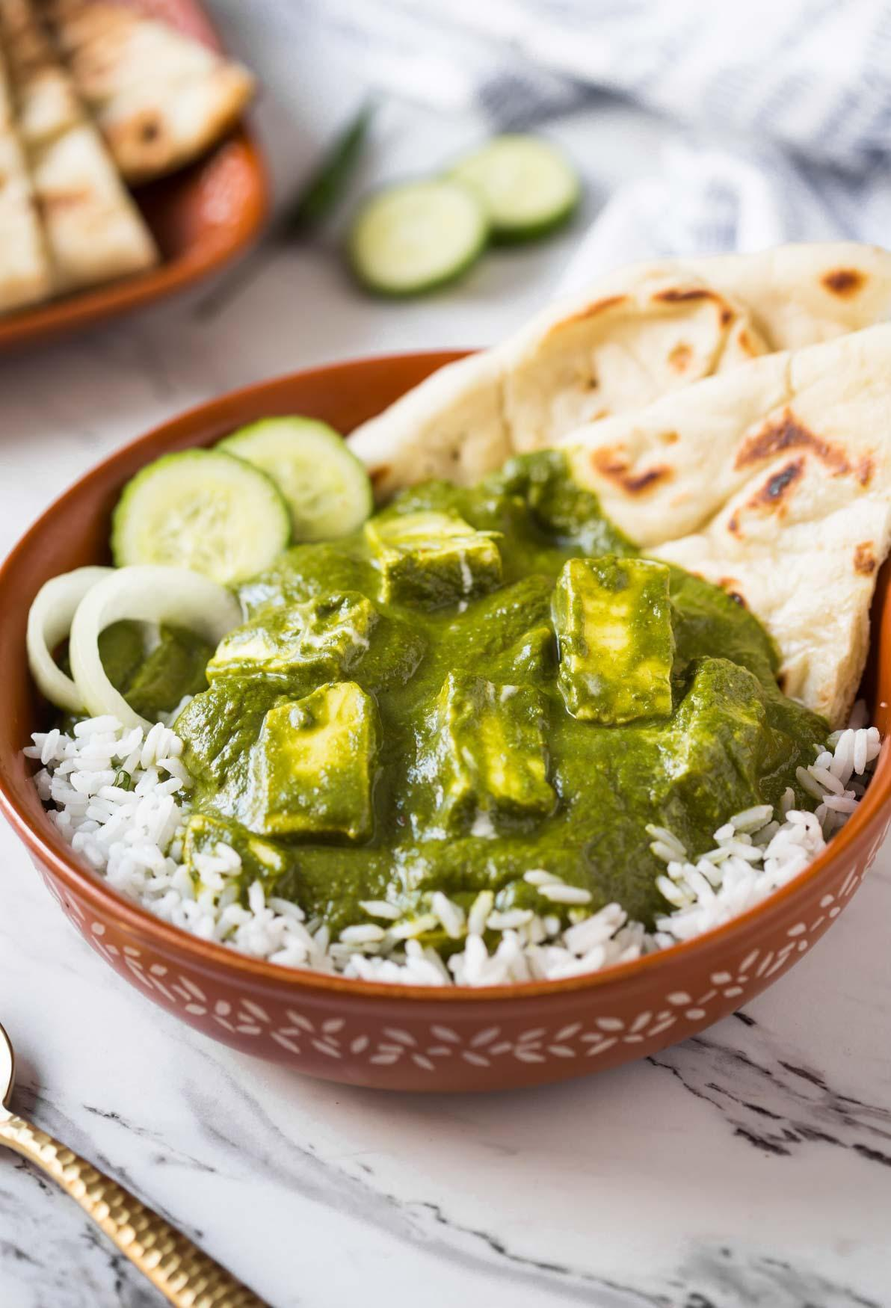paneer: (323, 588, 579, 804)
rice: (65, 756, 133, 842)
roti: (637, 308, 891, 530)
